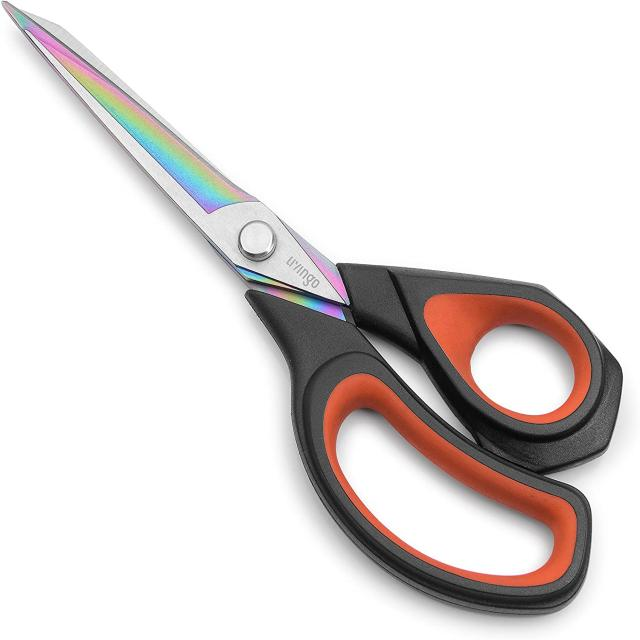Gunting: (41, 17, 639, 594)
